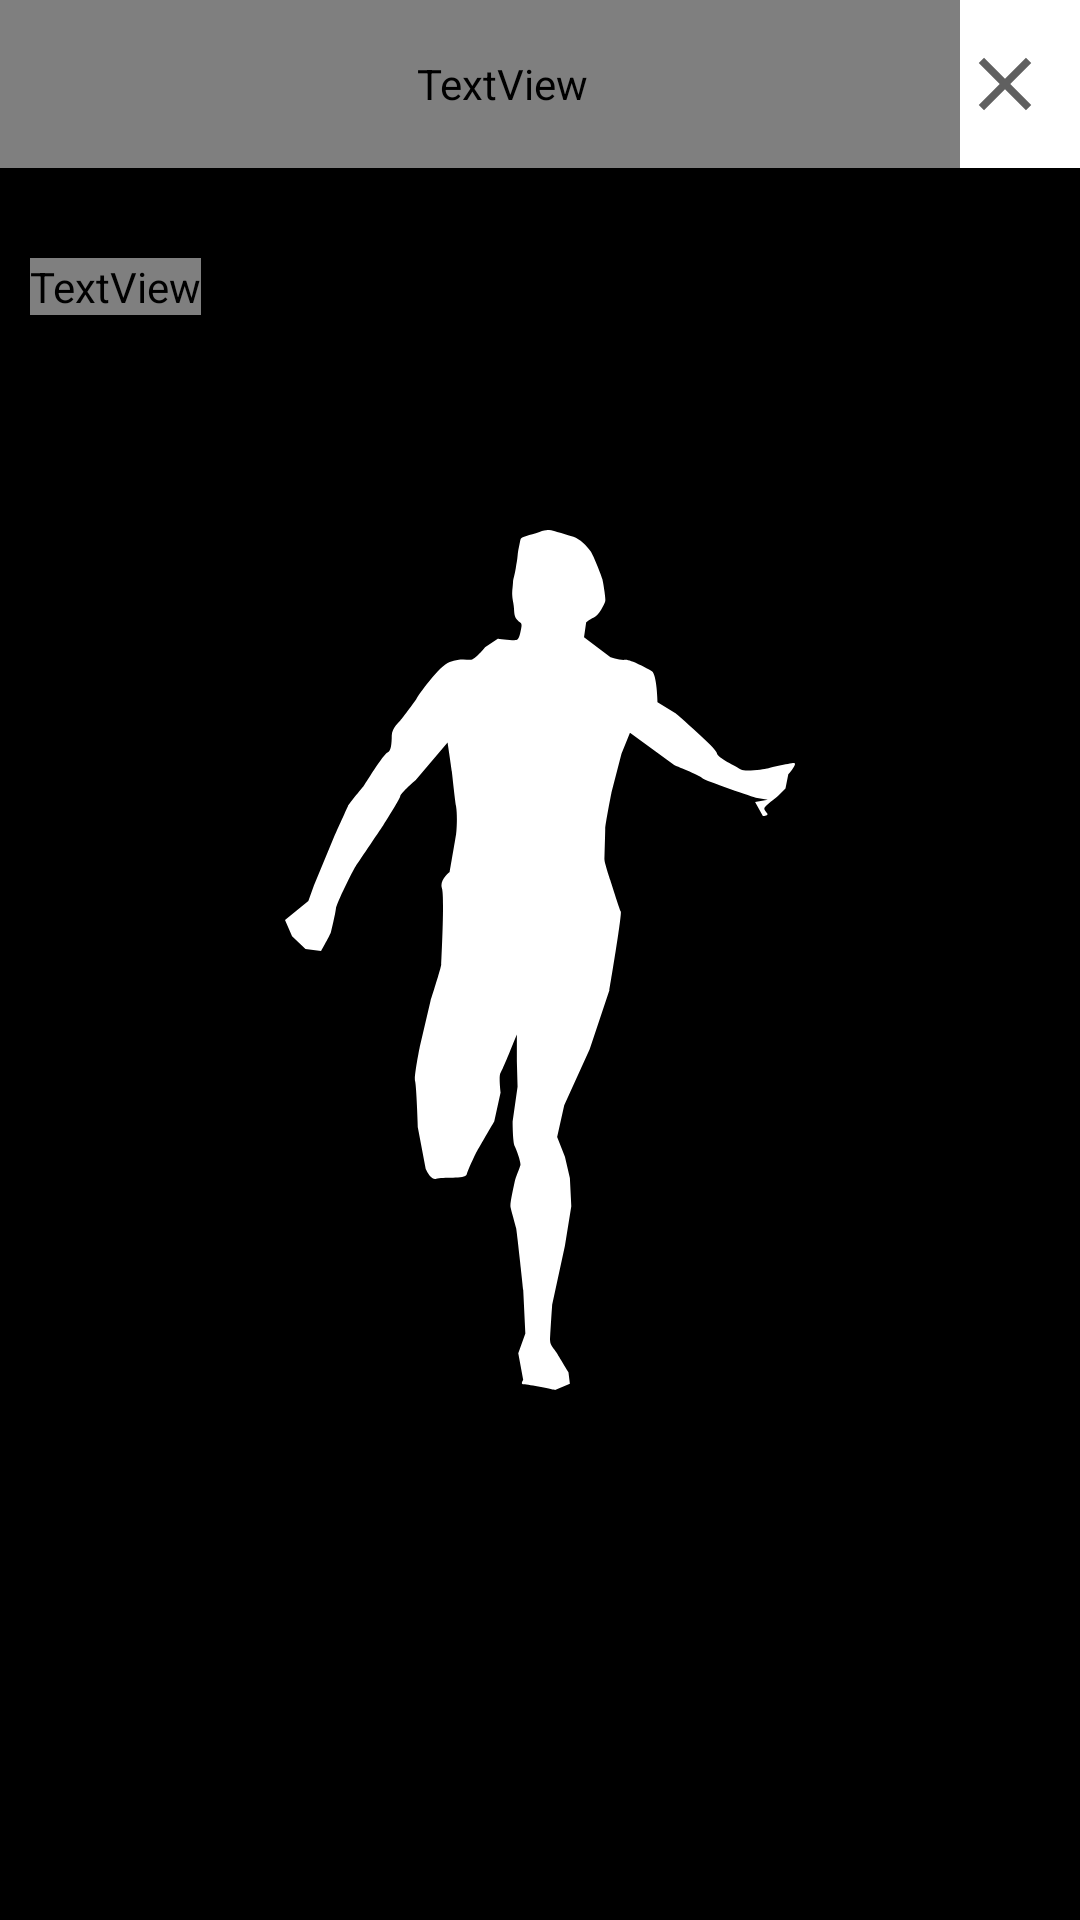

Where icons sit on this 1080 x 1920 app screen, as [x1,y1,x2,y2]:
close: [979,58,1031,110]
